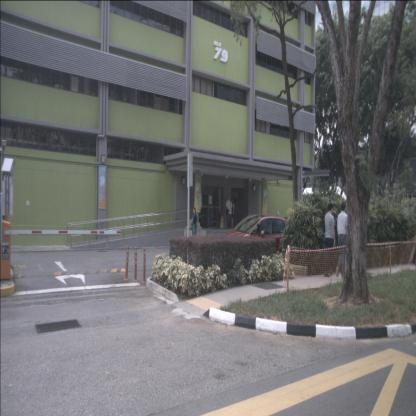human-pedestrian-adult: (336, 201, 350, 278), (324, 202, 336, 277), (226, 194, 233, 228), (230, 197, 235, 229), (192, 208, 196, 245)
vehicle-car: (216, 214, 304, 277)
